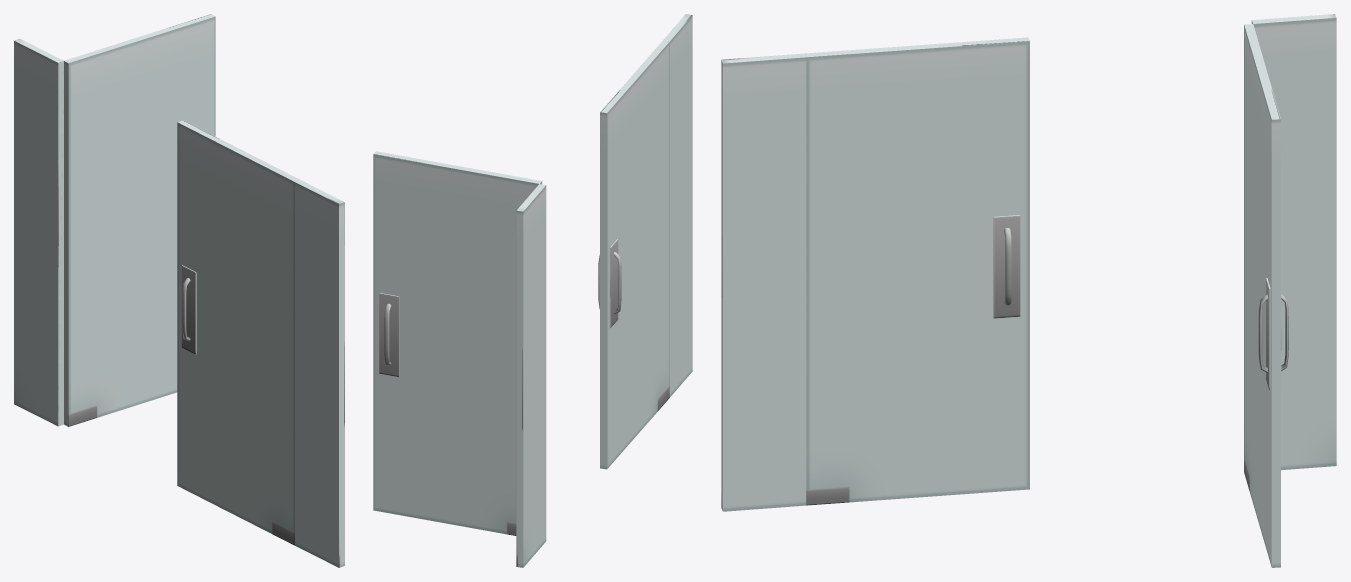
The model's file is GlassDoor.FBX.
3 renders of one model, left to right at view 1: azimuth 30°, elevation 25°; view 2: azimuth 150°, elevation 25°; view 3: azimuth 270°, elevation 25°, orthographic. The views are drawn at different scales.
Visible parts, largest first — view 1: Object007; view 2: Object007; view 3: Object007.
Part boxes in pixels (x1,y1,x2,y2): Object007: (14, 14, 344, 567); Object007: (373, 14, 692, 567); Object007: (721, 14, 1336, 567).
Size of the model in its own units: 153 by 303 by 377.
